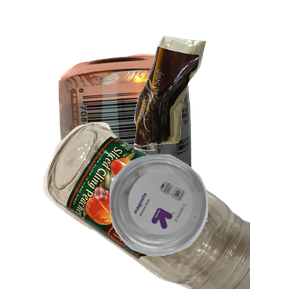glass: (41, 120, 281, 300)
metal: (56, 52, 242, 232)
plastic: (107, 152, 300, 300)
trash: (131, 34, 300, 177)
